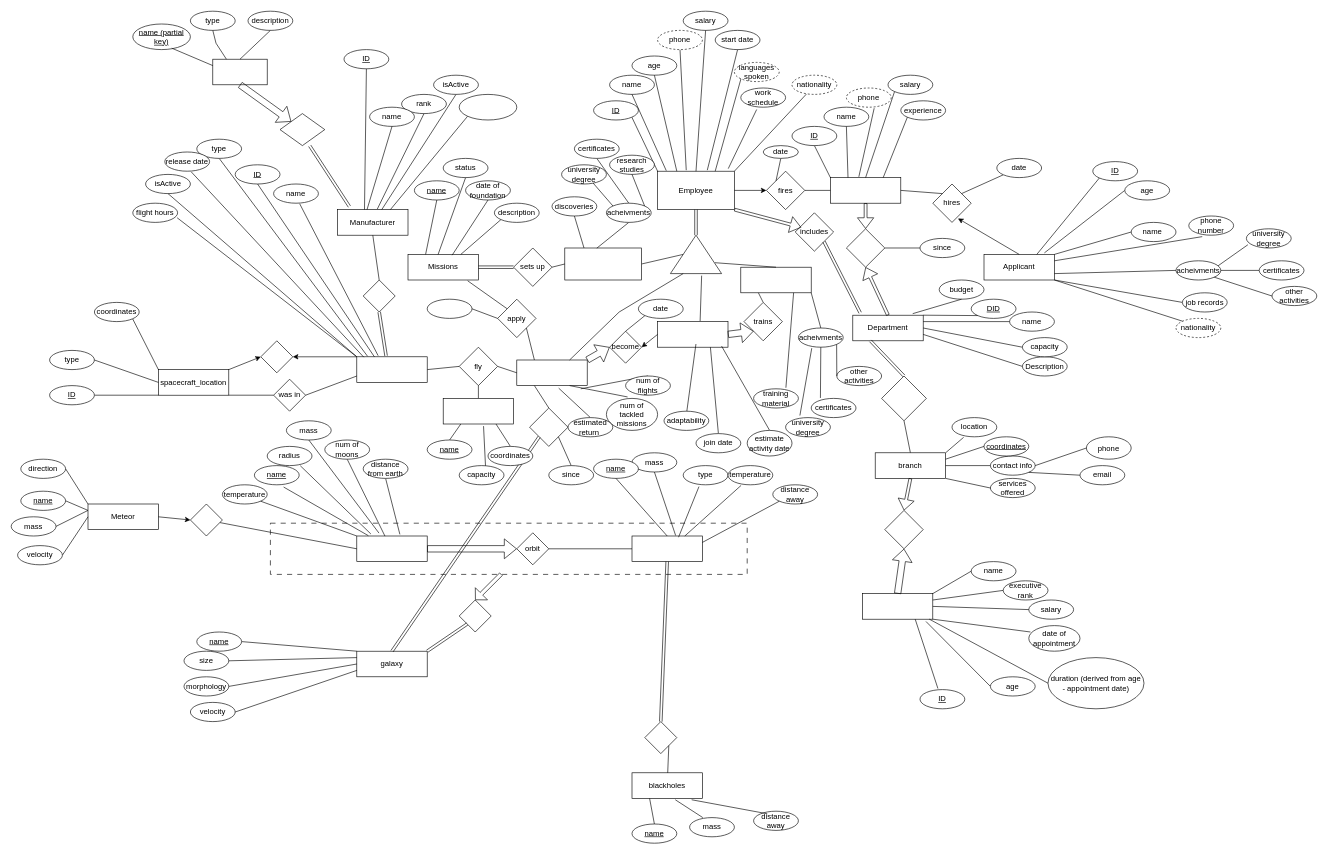
Some shapes in this 1328 by 854 pixel diagram are drawn without their labels. Each missing label, with the centre of its shape:
"Active" belongs at point 551,372.
"attracts" belongs at point 660,737.
"belong to" belongs at point 475,615.
"Branch Moderator" belongs at point 897,606.
"branched to" belongs at point 903,398.
"builds" belongs at point 379,295.
"date of application" belongs at point 449,308.
"discovers" belongs at point 548,426.
"hit" belongs at point 206,519.
"is now in" belongs at point 276,356.
"ISA" belongs at point 696,254.
"Manager" belongs at point 865,190.
"manages" belongs at point 865,247.
"moderates" belongs at point 903,529.
"Passive" belongs at point 692,334.
"performs" belongs at point 302,129.
"planets" belongs at point 391,548.
"previous ships built" belongs at point 488,107.
"Scientist" belongs at point 603,263.
"services" belongs at point 239,72.
"spaceship" belongs at point 391,369.
"Stars" belongs at point 666,548.
"station" belongs at point 478,411.
"Trainer" belongs at point 775,280.
